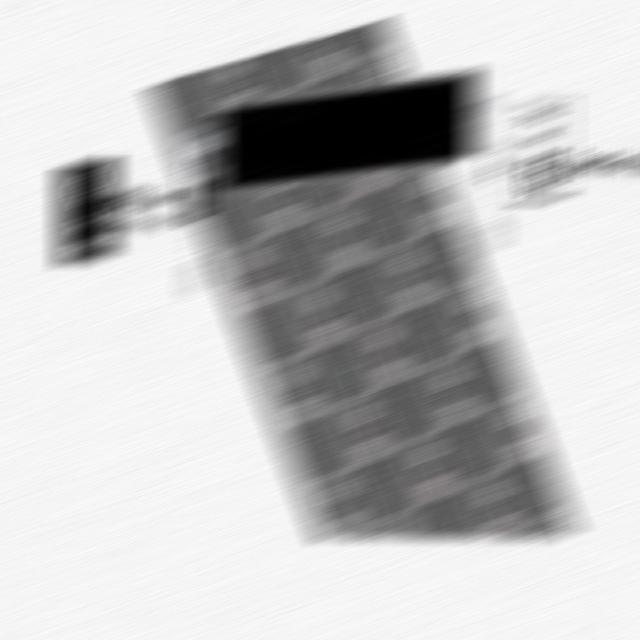speedLimit65: (514, 97, 571, 207)
